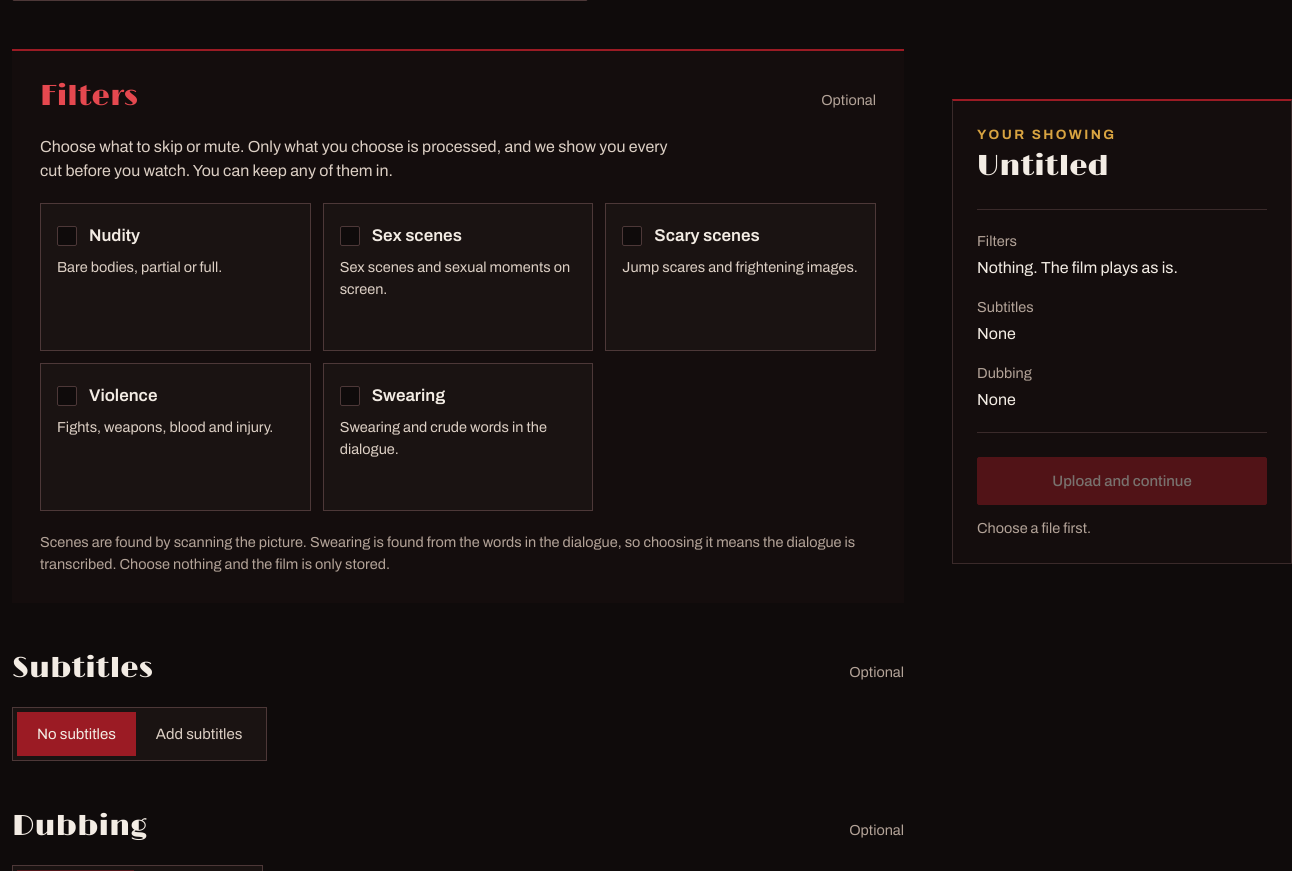
Test case: Add a title: filters › says nothing will be processed until something is chosen, then lists what was
(page scrolled)
Expected: the text "Nothing. The film plays as is." is shown, top-left (977, 259), bottom-right (1178, 276)
Click the button "Swearing Swearing and crude words in the dialogue." at (458, 437), box top-left (323, 363), bottom-right (593, 511)
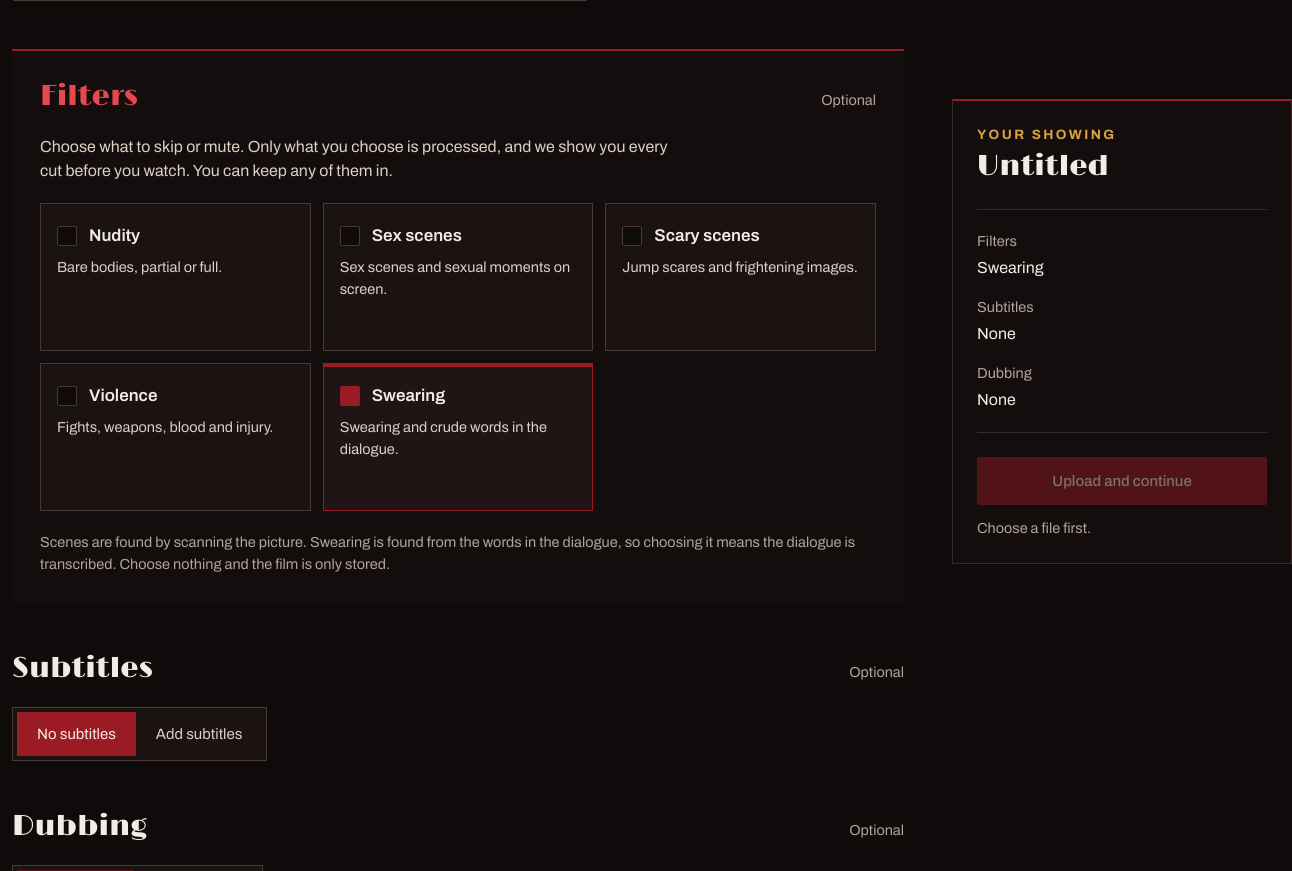
Click the button "Nudity Bare bodies, partial or full." at (175, 277), box top-left (40, 203), bottom-right (311, 351)
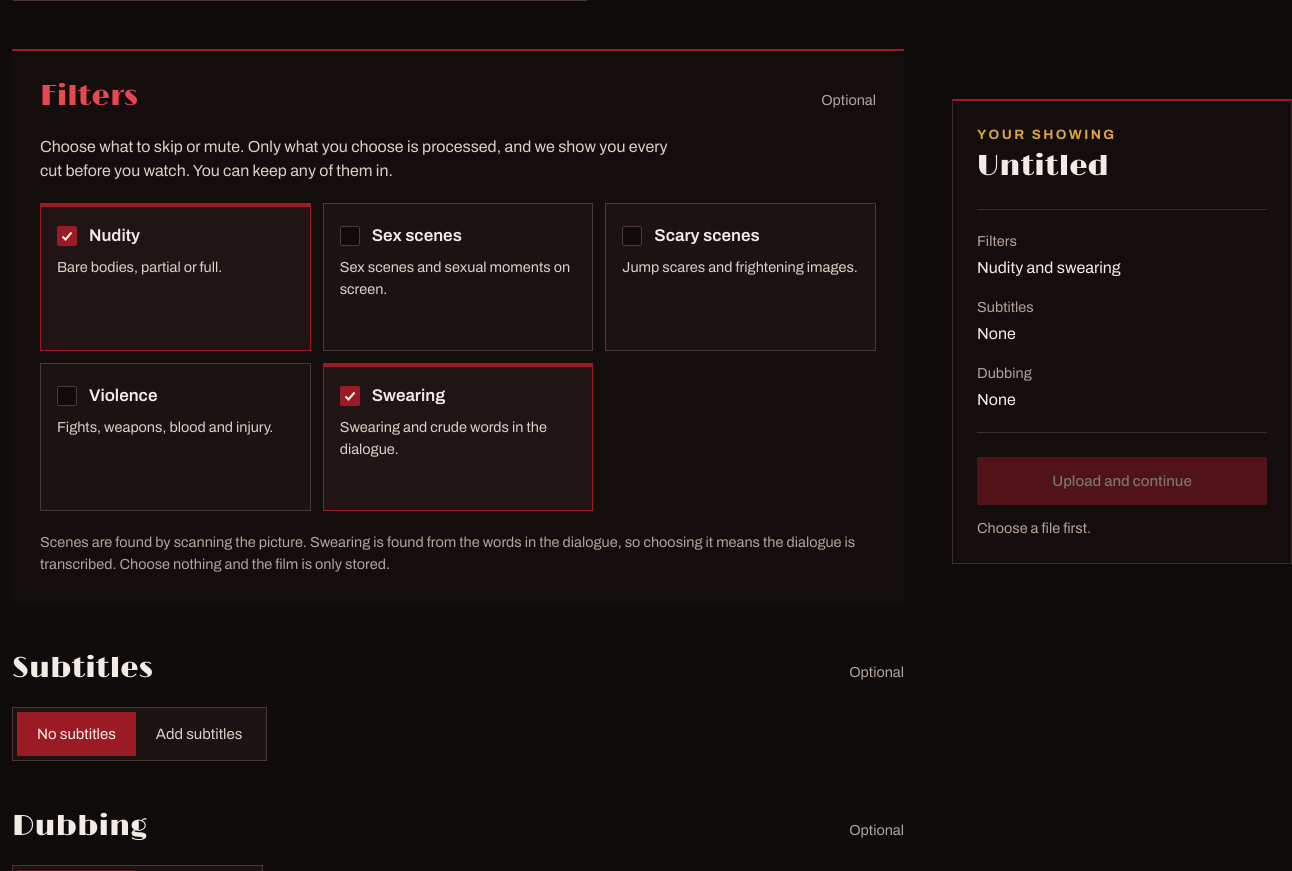
Result: the text "Nudity and swearing" is shown at top-left (977, 259), bottom-right (1121, 276)
